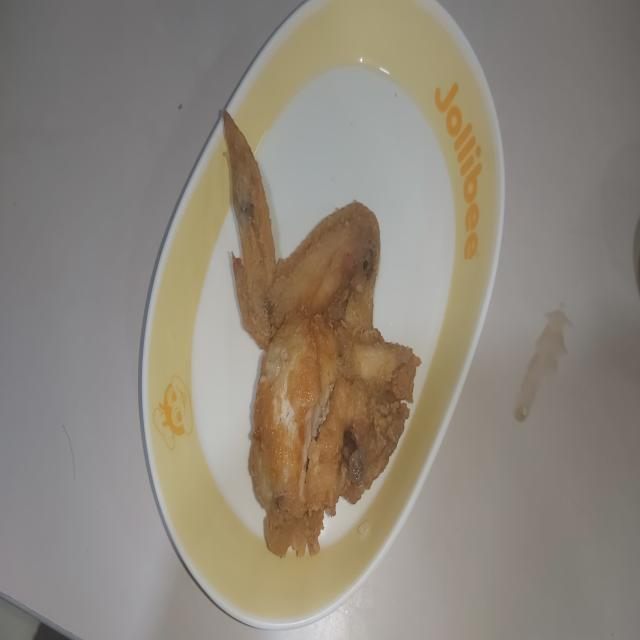Chicken -Fried Chicken-: (216, 88, 420, 567)
